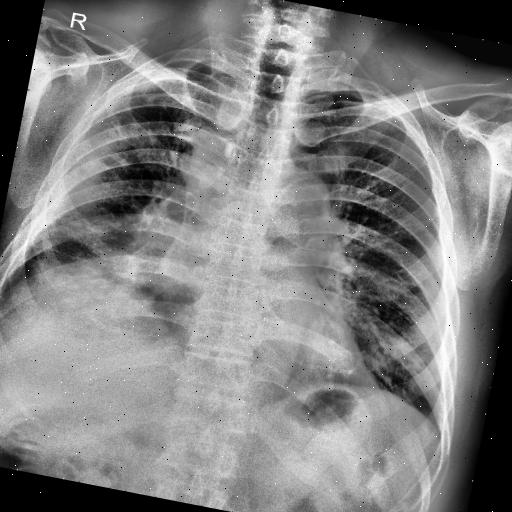0- Aortic enlargement: (242, 164, 340, 266), (265, 161, 340, 235)
10- Pleural effusion: (0, 261, 23, 319)
11- Pleural thickening: (122, 44, 202, 108)
4- Consolidation: (18, 202, 206, 336)
6- Infiltration: (24, 118, 212, 300), (52, 111, 158, 218)
7- Lung Opacity: (8, 58, 206, 305), (24, 118, 212, 300)
